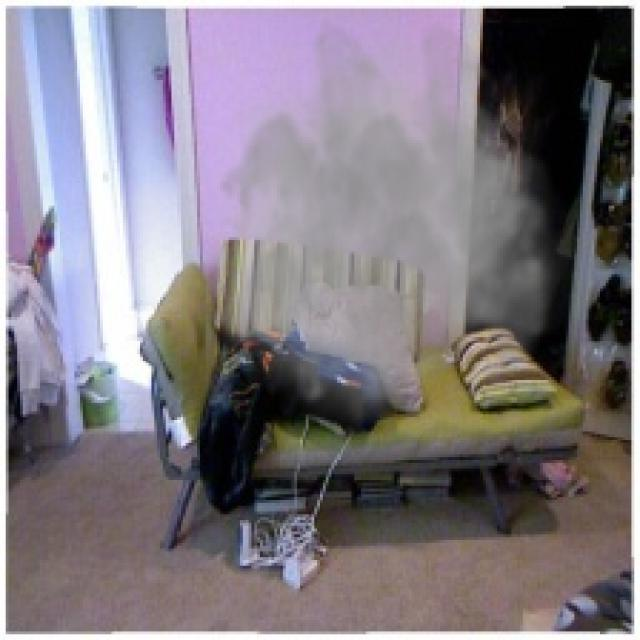smoke: (206, 17, 588, 437)
